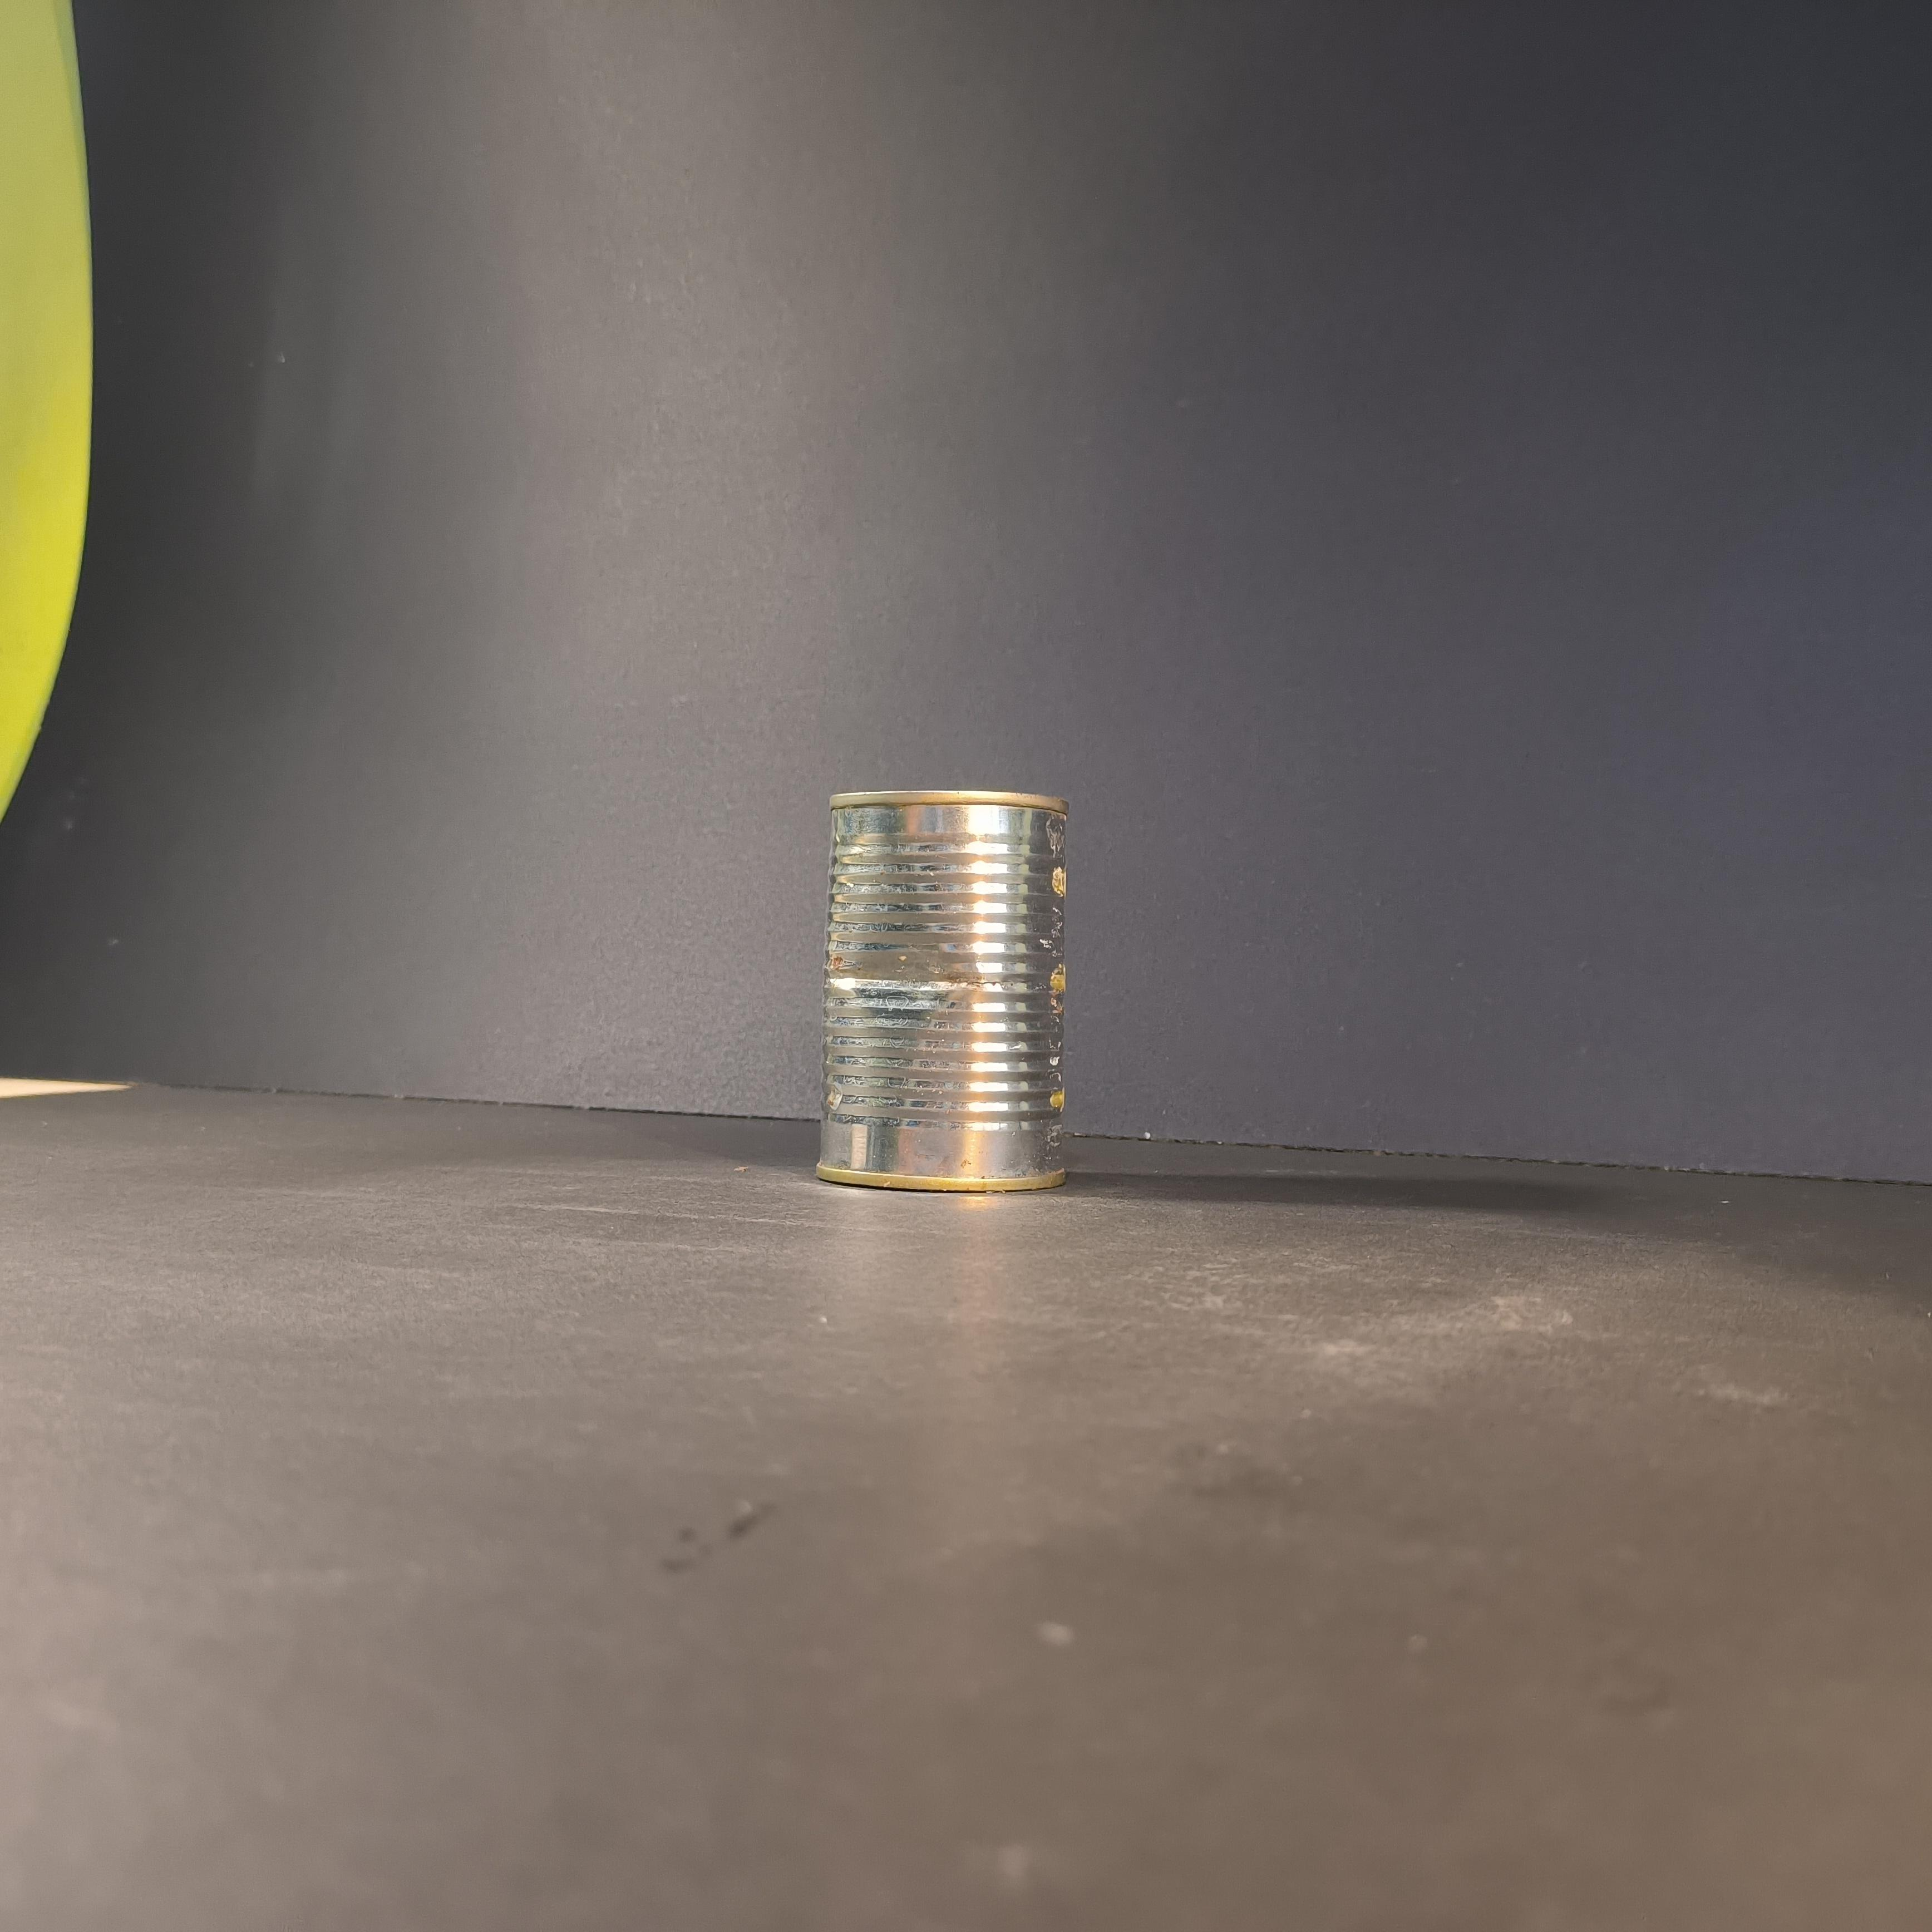Dented: (810, 771, 1079, 1210)
